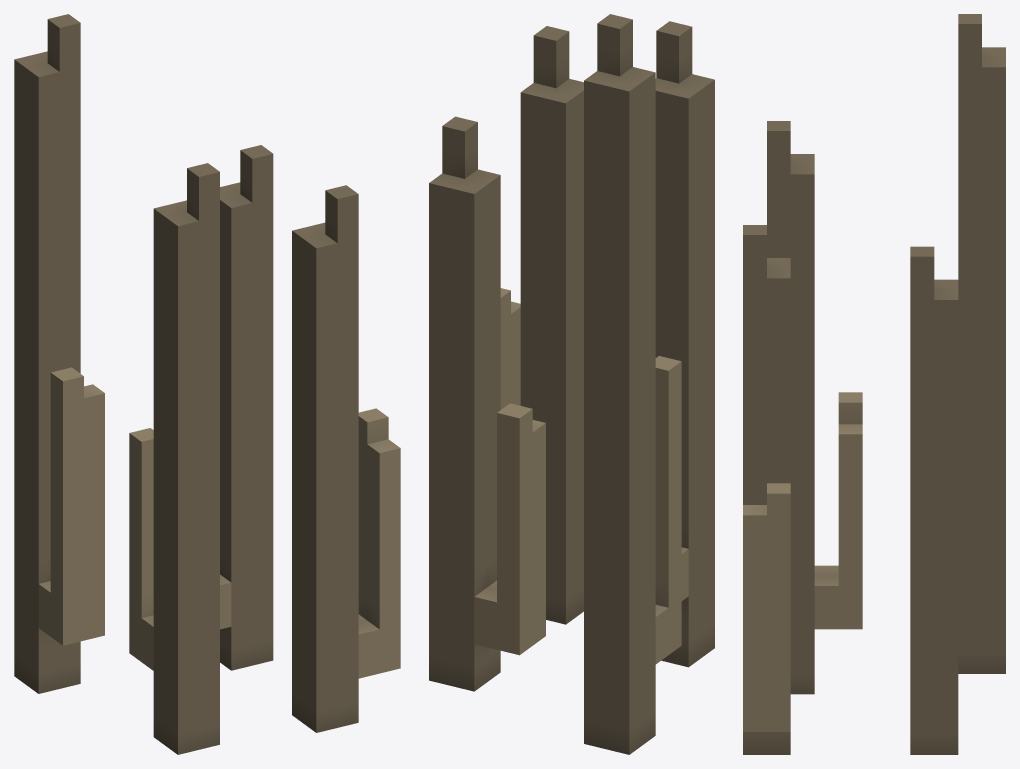
Rendered from reeds_2_winter.glb.
3 views of the same model, side by side, from view 1: azimuth 30°, elevation 25°; view 2: azimuth 150°, elevation 25°; view 3: azimuth 270°, elevation 25° (orthographic). The views are drawn at different scales.
Visible parts, largest first — view 1: VoxelVisual; view 2: VoxelVisual; view 3: VoxelVisual.
Boxes of the visible parts, bbox=[...] form: VoxelVisual: bbox=[14, 14, 400, 754]; VoxelVisual: bbox=[429, 14, 714, 754]; VoxelVisual: bbox=[743, 14, 1005, 754].
Size of what is drawn, in the model's own units: 0.75 by 1.88 by 0.6875.
